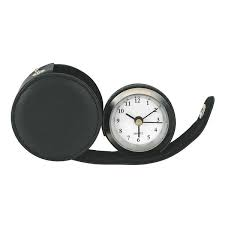alarm_clock: (101, 78, 175, 154)
